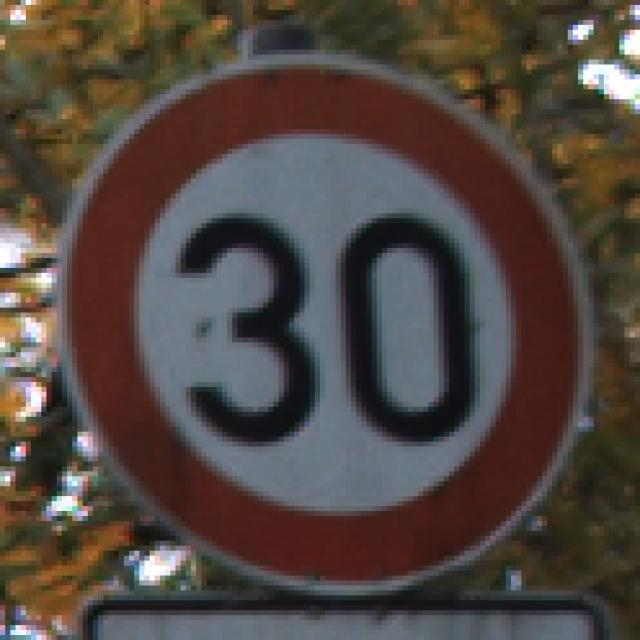Speed Limit -30-: (54, 52, 586, 583)
